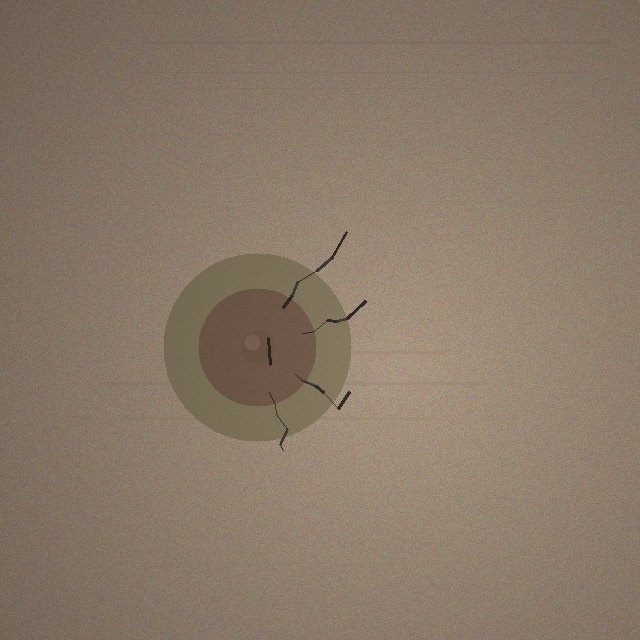crack: (163, 253, 351, 441)
